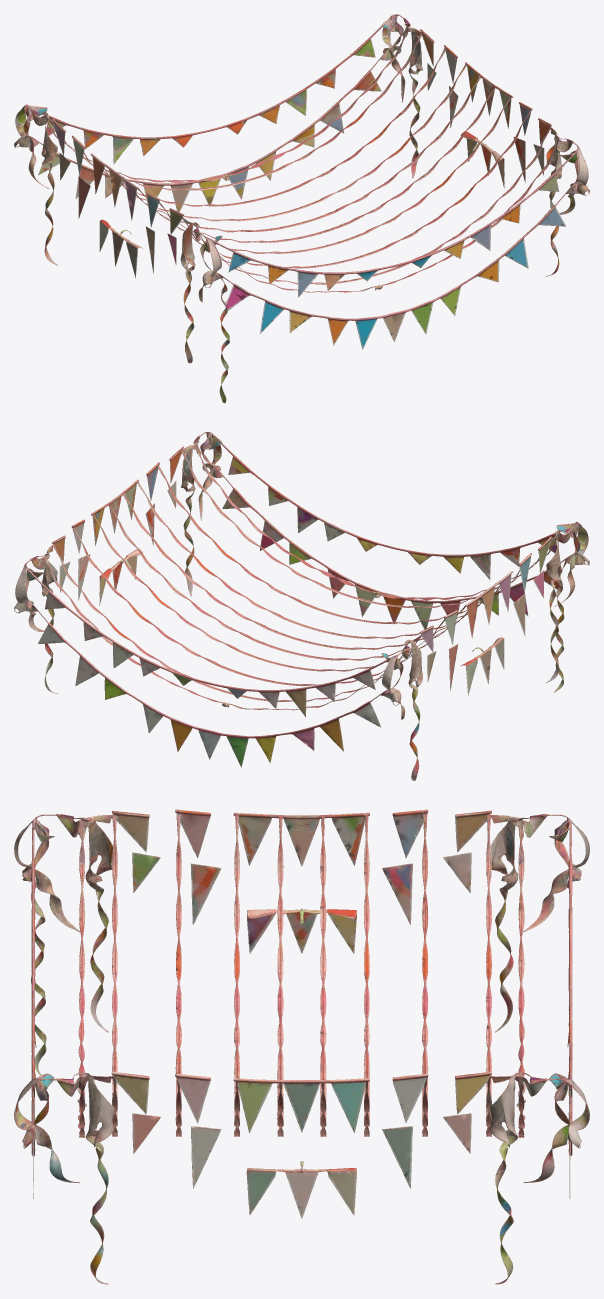
File: Meshy_AI_A_long_string_of_colo_0824213032_texture-optimized.glb
3 renders of one model, top to bottom at view 1: azimuth 30°, elevation 25°; view 2: azimuth 150°, elevation 25°; view 3: azimuth 270°, elevation 25°, orthographic. The views are drawn at different scales.
Visible parts, largest first — view 1: mesh_node; view 2: mesh_node; view 3: mesh_node.
Part boxes in pixels (x1=…): mesh_node: x1=14, y1=14, x2=589, y2=403; mesh_node: x1=14, y1=432, x2=589, y2=780; mesh_node: x1=14, y1=809, x2=589, y2=1284.
Bounding box in the file's own units: 1.9 × 0.8378 × 1.69.
1 material, 1 textured.
